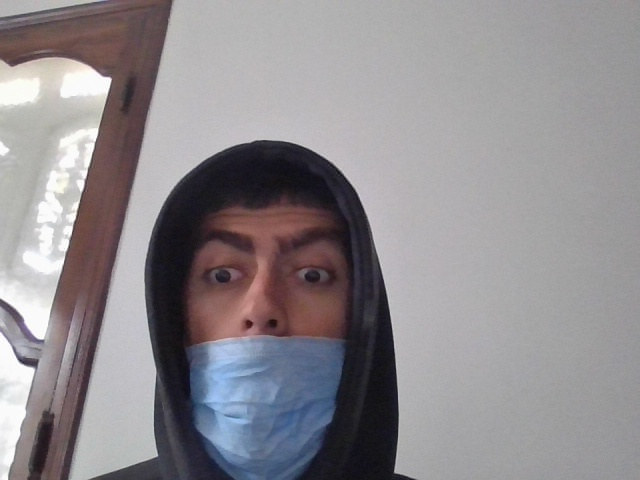mask_weared_incorrect: (173, 177, 353, 465)
